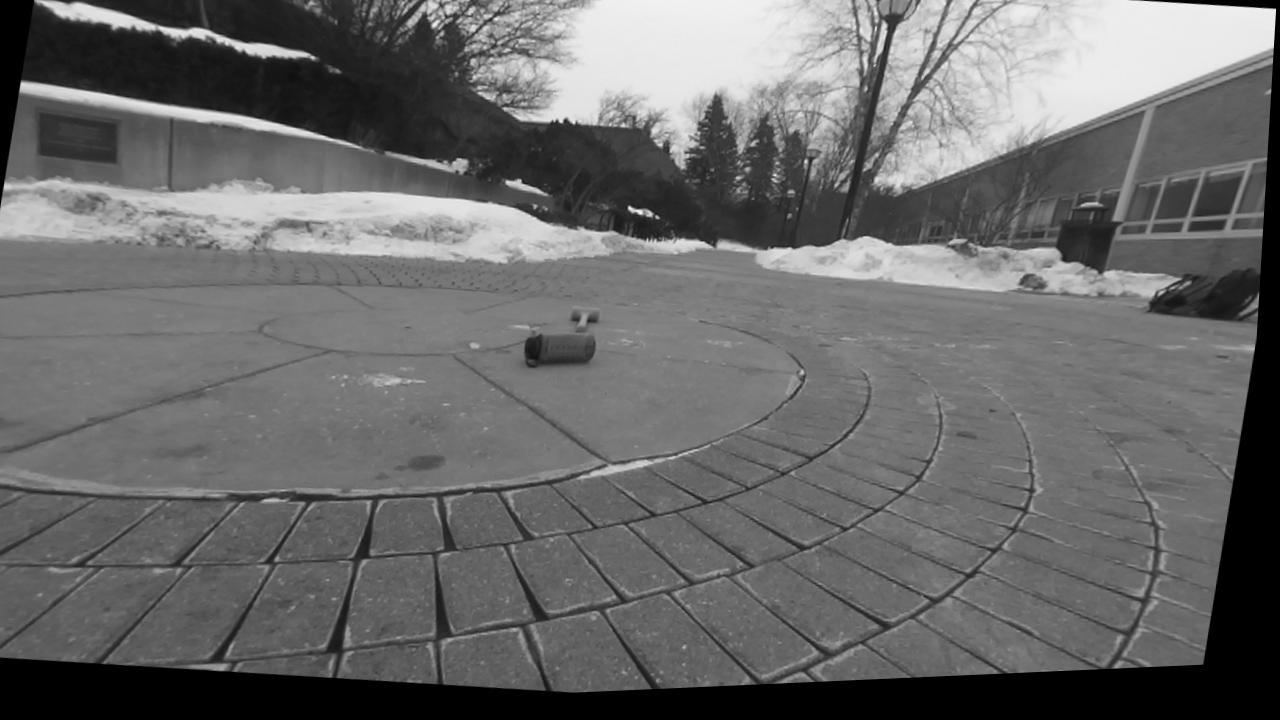bottle: (524, 333, 595, 364)
mallet: (570, 306, 599, 331)
